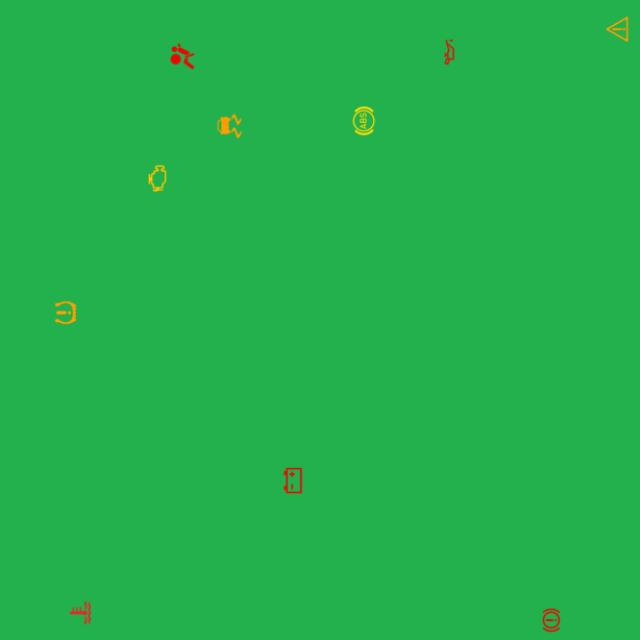Anti Lock Braking System: (348, 105, 380, 137)
Braking System Issue: (536, 604, 567, 636)
Charging System Issue: (277, 465, 309, 496)
Check Engine: (142, 162, 173, 194)
Electronic Stability Problem -ESP-: (214, 110, 245, 142)
Engine Overheating Warning Light: (65, 597, 96, 629)
Low Engine Oil Warning Light: (434, 36, 465, 68)
Low Tire Pressure Warning Light: (50, 297, 81, 328)
Master warning light: (601, 13, 633, 45)
SRS-Airbag: (167, 41, 198, 72)
